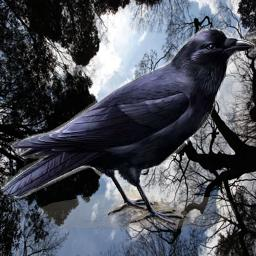Crow: (1, 28, 255, 229)
